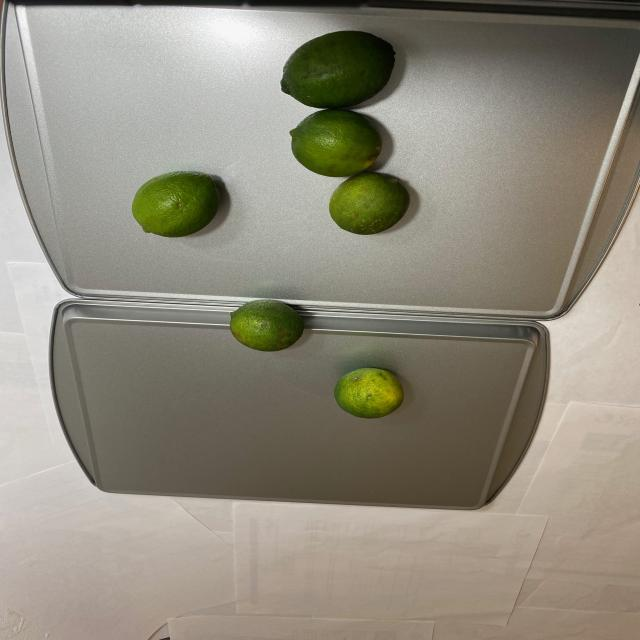lemon: (276, 21, 430, 239), (226, 300, 410, 420), (128, 165, 229, 250)
